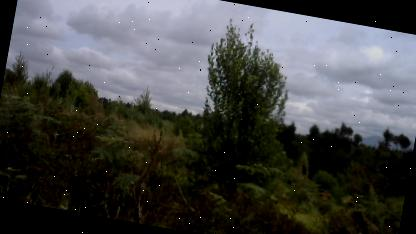tree: (168, 10, 314, 204)
